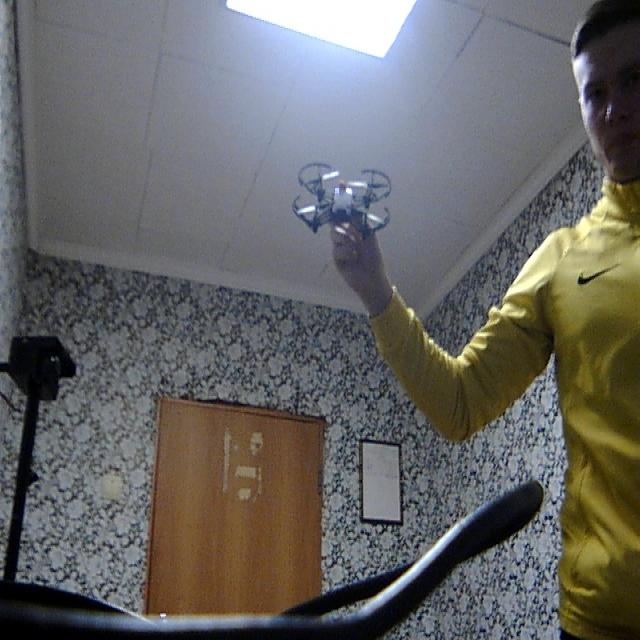drone: (281, 148, 408, 241)
